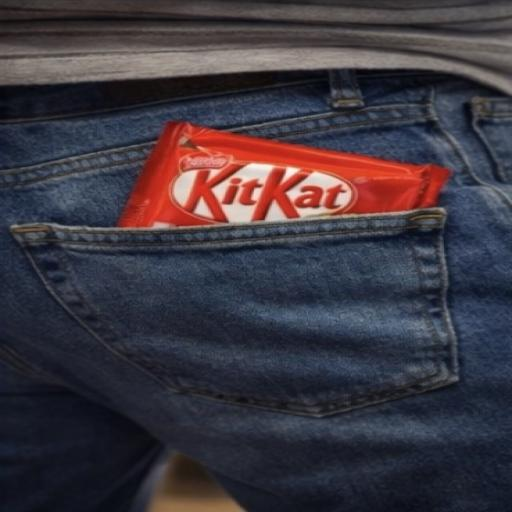kitkat: (103, 88, 486, 294)
